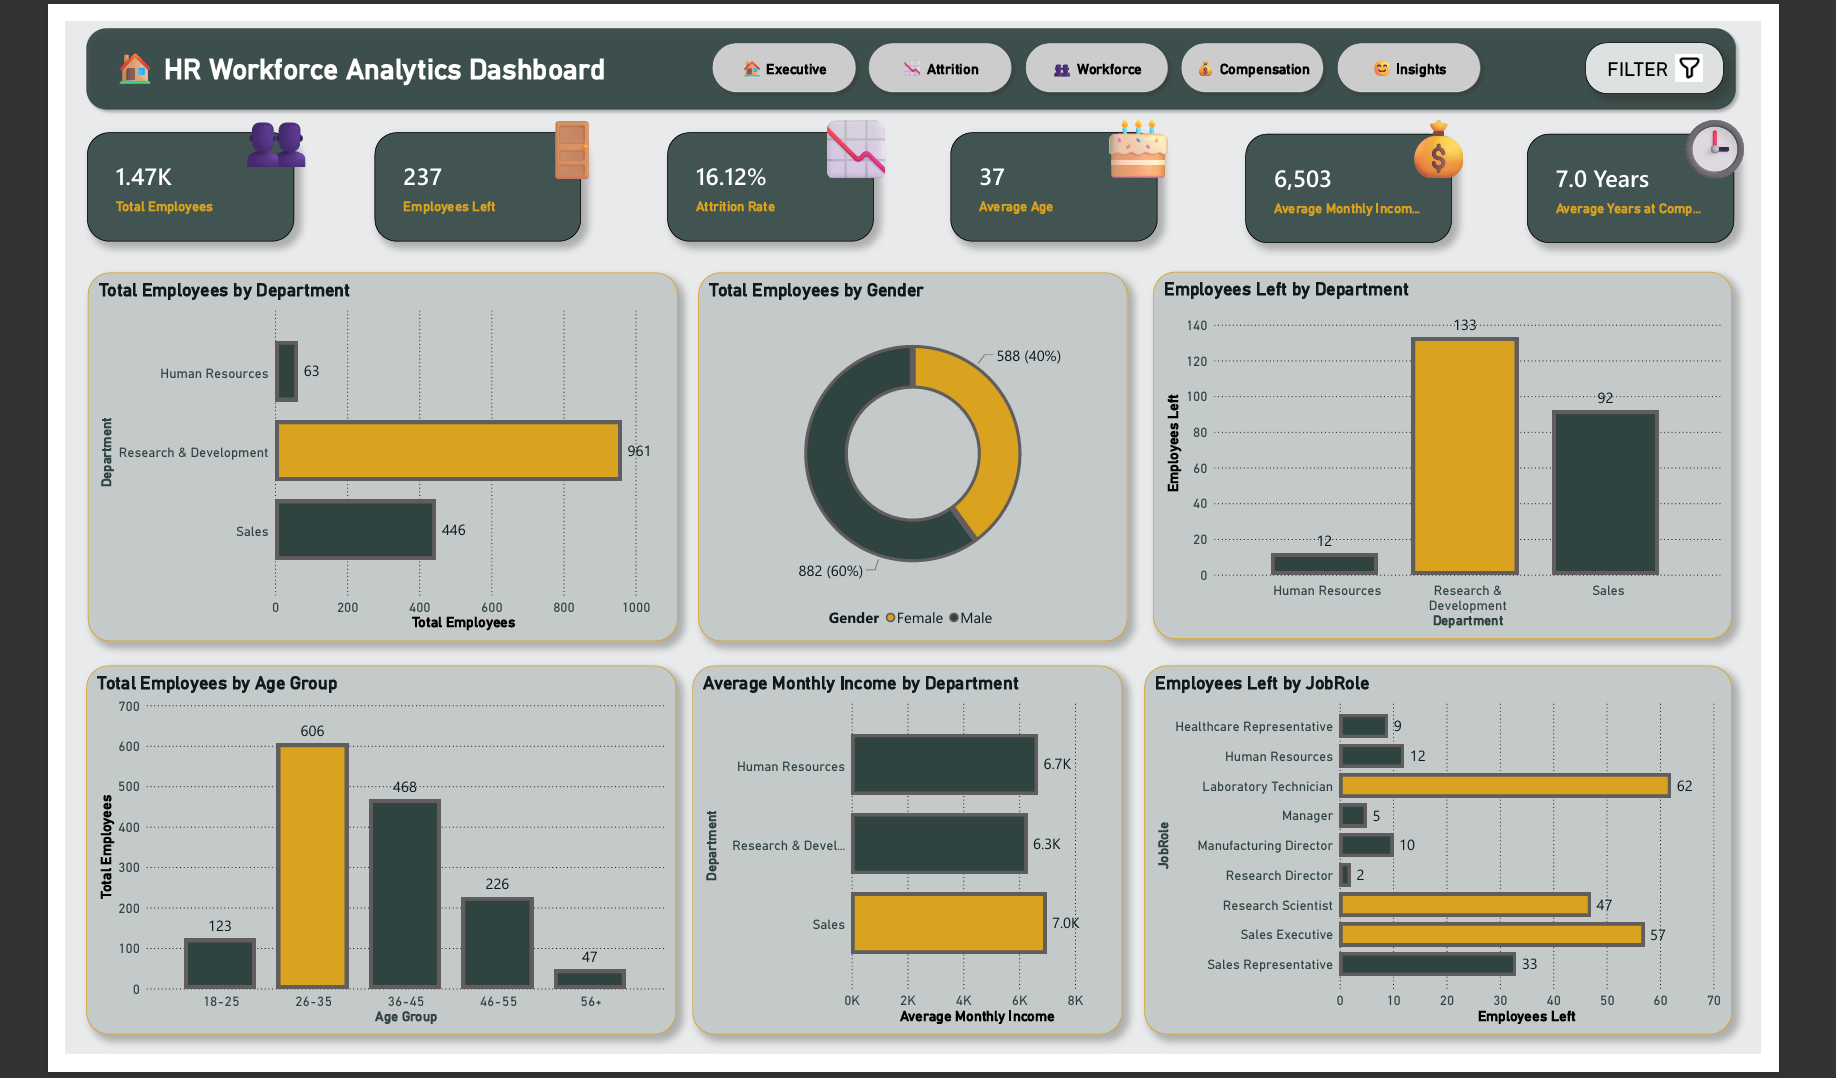

The page's visual inventory and layout, read from the dashboard file:
{"tool":"powerbi","page":{"name":"Workforce Demographics","canvas":[2300,1400],"ordinal":2},"visuals":[{"type":"group","id":"g1","title":"Group 1","box":[19.4,0,2254.9,128.2],"z":0},{"type":"shape","box":[19.4,0,2254.9,128.2],"z":0,"group":"g1"},{"type":"actionButton","box":[2061.2,27.6,187.7,70.1],"z":0,"group":"g2"},{"type":"actionButton","box":[867.5,20,213,85],"z":1000,"group":"g3"},{"type":"image","box":[2157.4,43.5,90.9,36.9],"z":1000,"group":"g2"},{"type":"actionButton","box":[1080,20,211.9,85],"z":2000,"group":"g3"},{"type":"group","id":"g2","title":"Open","box":[2061.2,27.6,187.1,75],"z":2000,"group":"g1"},{"type":"actionButton","box":[1292.2,20,211.2,85],"z":3000,"group":"g3"},{"type":"actionButton","box":[1503.4,20,211.2,85],"z":4000,"group":"g3"},{"type":"textbox","box":[60.7,26.5,752.5,70.3],"z":4000,"group":"g1"},{"type":"actionButton","box":[1715.6,20,211.9,85],"z":5000,"group":"g3"},{"type":"clusteredBarChart","fields":{"Category":["HR-Employee.Department"],"Y":["HR-Employee.Total Employees"]},"box":[27,343.6,800,498.2],"z":7000},{"type":"clusteredColumnChart","fields":{"Category":["HR-Employee.EducationField"],"Y":["HR-Employee.Total Employees"]},"box":[1462.5,340,800,500],"z":8000},{"type":"donutChart","fields":{"Category":["HR-Employee.Gender"],"Y":["HR-Employee.Total Employees"]},"box":[857.5,340,582.5,500],"z":9000},{"type":"clusteredColumnChart","fields":{"Y":["HR-Employee.Total Employees"],"Category":["HR-Employee.Age Group"]},"box":[27.5,872.5,800,500],"z":10000},{"type":"clusteredBarChart","fields":{"Category":["HR-Employee.JobRole"],"Y":["HR-Employee.Total Employees"]},"box":[1463.3,873.3,796.7,500],"z":11000},{"type":"donutChart","fields":{"Category":["HR-Employee.Department"],"Y":["HR-Employee.Average Monthly Income"]},"box":[856.4,871.2,584,500.6],"z":12000},{"type":"group","id":"g3","title":"Group 1","box":[867.5,20,1060,85],"z":14000},{"type":"cardVisual","fields":{"Data":["HR-Employee.Total Employees"]},"box":[29,150.1,280.7,147.6],"z":15000,"group":"g4"},{"type":"cardVisual","fields":{"Data":["HR-Employee.Male Employees"]},"box":[418.6,150.1,280.7,147.6],"z":16000,"group":"g4"},{"type":"cardVisual","fields":{"Data":["HR-Employee.Female Employees"]},"box":[815.5,150.1,280.7,147.6],"z":17000,"group":"g4"},{"type":"cardVisual","fields":{"Data":["HR-Employee.Average Age"]},"box":[1200.3,150.1,280.7,147.6],"z":18000,"group":"g4"},{"type":"cardVisual","fields":{"Data":["HR-Employee.Total Departments"]},"box":[1599.6,152.5,280.7,147.6],"z":19000,"group":"g4"},{"type":"cardVisual","fields":{"Data":["HR-Employee.Total Job Roles"]},"box":[1982,152.5,280.7,147.6],"z":20000,"group":"g4"},{"type":"textbox","box":[220.8,95.7,257.7,130.1],"z":20500,"group":"g4"},{"type":"textbox","box":[613.5,95.7,255.2,162],"z":21000,"group":"g4"},{"type":"textbox","box":[1013.5,95.7,257.7,162],"z":21500,"group":"g4"},{"type":"textbox","box":[1396.3,81,257.7,162],"z":22000,"group":"g4"},{"type":"textbox","box":[1798.7,105.5,255.2,162],"z":22500,"group":"g4"},{"type":"textbox","box":[2164.4,81,110.4,162],"z":23000,"group":"g4"},{"type":"group","id":"g4","title":"Group 2","box":[29,81,2245.8,219.1],"z":23001}]}

Visuals, with their boxes on the page's 2300x1400 design canvas (x1, y1, x2, y2). These are canvas units, not pixel positions in the 1836x1078 screenshot, which may show the page scaled, cropped or inside an application window:
"Group 1" group: 19:0:2274:128
shape: 19:0:2274:128
actionButton: 2061:28:2249:98
actionButton: 868:20:1080:105
image: 2157:44:2248:80
actionButton: 1080:20:1292:105
"Open" group: 2061:28:2248:103
actionButton: 1292:20:1503:105
actionButton: 1503:20:1715:105
textbox: 61:26:813:97
actionButton: 1716:20:1928:105
clusteredBarChart - HR-Employee.Department x HR-Employee.Total Employees: 27:344:827:842
clusteredColumnChart - HR-Employee.EducationField x HR-Employee.Total Employees: 1462:340:2262:840
donutChart - HR-Employee.Gender x HR-Employee.Total Employees: 858:340:1440:840
clusteredColumnChart - HR-Employee.Total Employees x HR-Employee.Age Group: 28:872:828:1372
clusteredBarChart - HR-Employee.JobRole x HR-Employee.Total Employees: 1463:873:2260:1373
donutChart - HR-Employee.Department x HR-Employee.Average Monthly Income: 856:871:1440:1372
"Group 1" group: 868:20:1928:105
cardVisual - HR-Employee.Total Employees: 29:150:310:298
cardVisual - HR-Employee.Male Employees: 419:150:699:298
cardVisual - HR-Employee.Female Employees: 816:150:1096:298
cardVisual - HR-Employee.Average Age: 1200:150:1481:298
cardVisual - HR-Employee.Total Departments: 1600:152:1880:300
cardVisual - HR-Employee.Total Job Roles: 1982:152:2263:300
textbox: 221:96:478:226
textbox: 614:96:869:258
textbox: 1014:96:1271:258
textbox: 1396:81:1654:243
textbox: 1799:106:2054:268
textbox: 2164:81:2275:243
"Group 2" group: 29:81:2275:300
